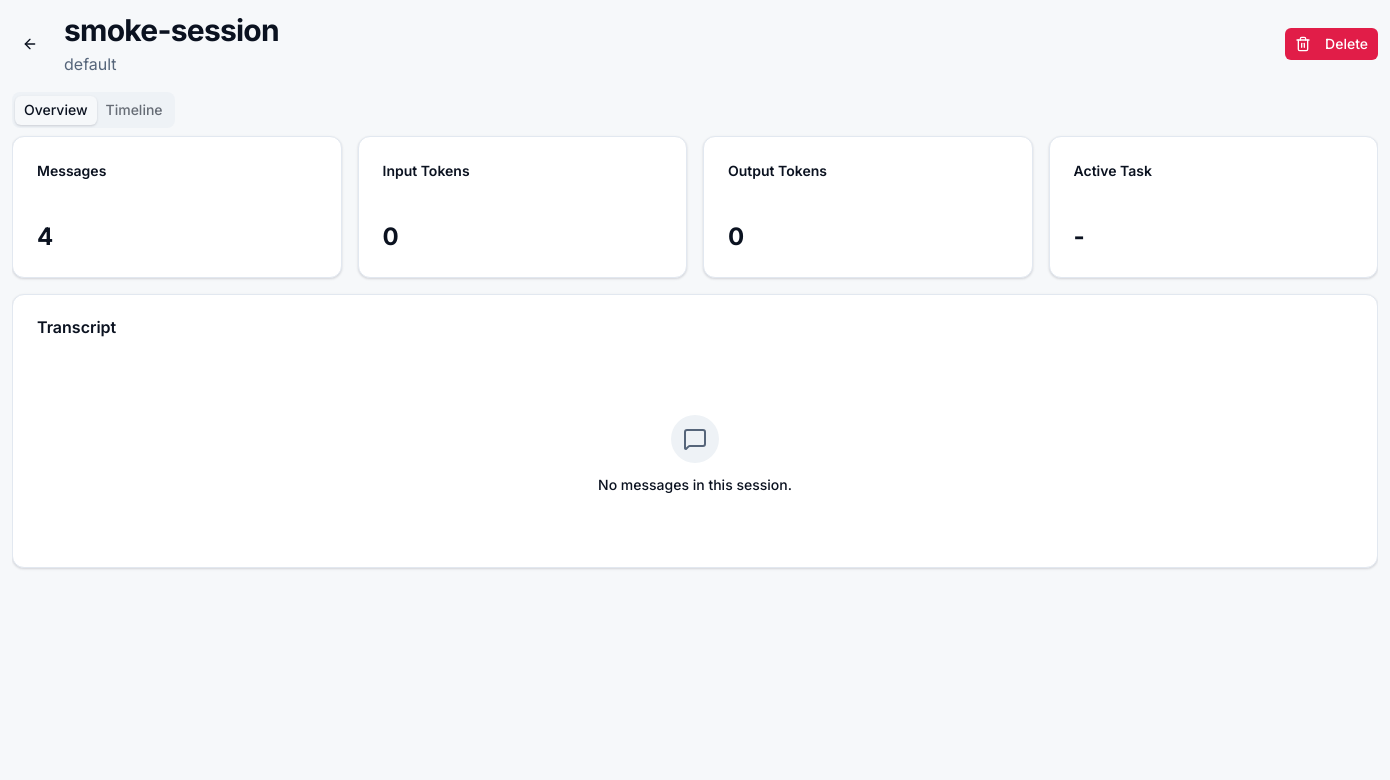
Test: evented execution UI smoke › shows a multi-task session timeline with task links
Check: the heading "smoke-session" is shown, box [64,12,279,48]
Click the tab "Timeline": (134, 110) [96,96,172,124]
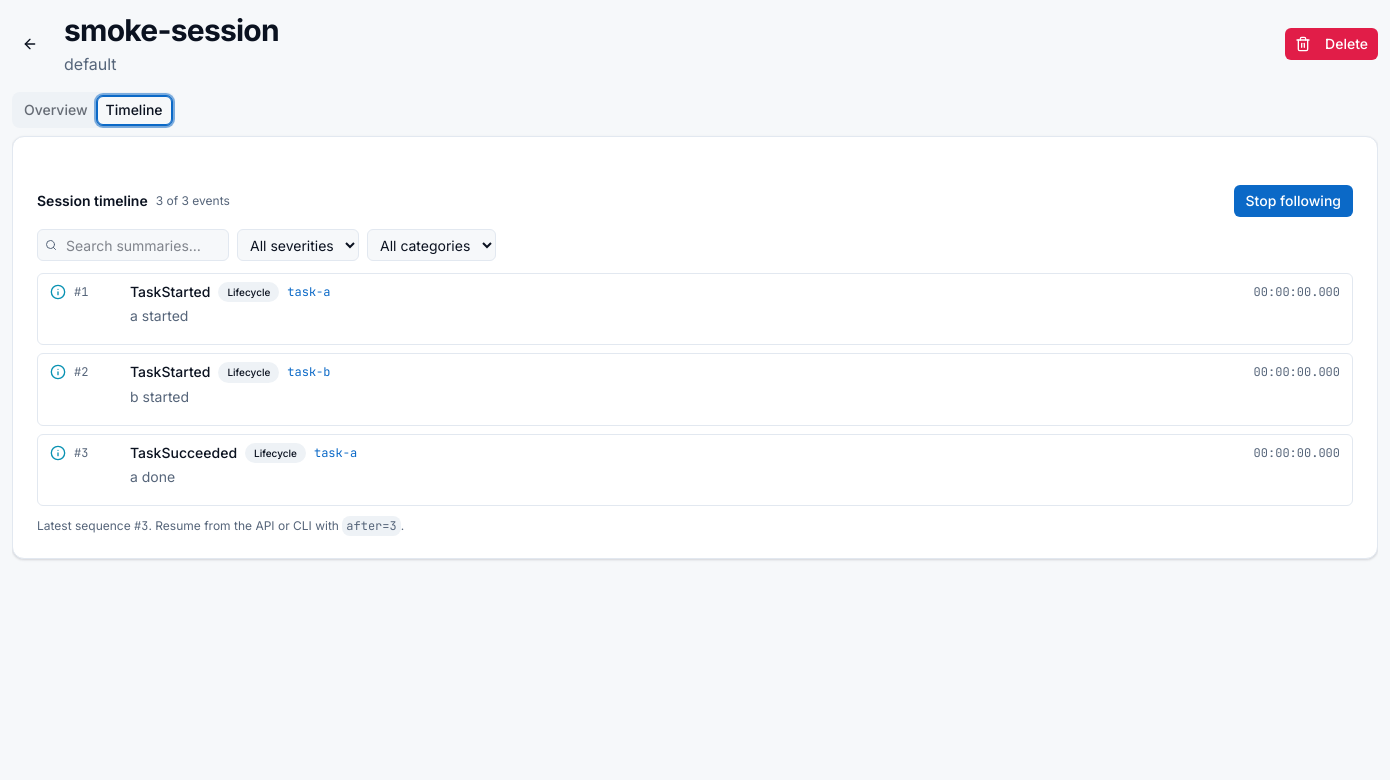
Check: the text "a started" is shown, box [130,307,188,324]
Check: the text "b started" is shown, box [130,388,189,405]
Check: the link "task-b" is shown, box [287,364,330,380]
